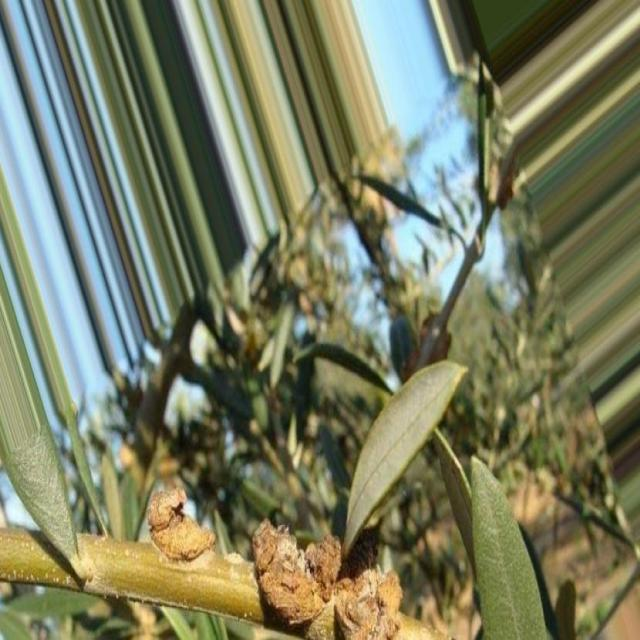Tuberculosis: (253, 520, 401, 639), (146, 486, 214, 564)
